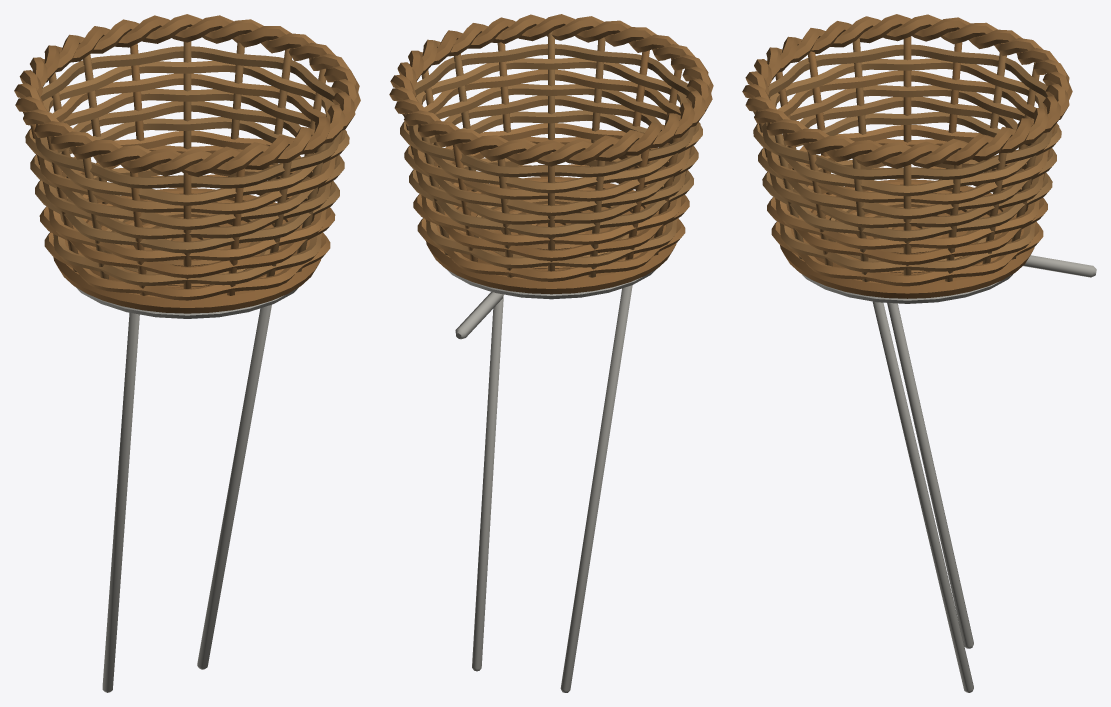
The model's file is bicycle_chibi_basket.glb.
3 views of the same model, side by side, from view 1: azimuth 30°, elevation 25°; view 2: azimuth 150°, elevation 25°; view 3: azimuth 270°, elevation 25° (orthographic). The views are drawn at different scales.
Parts seen in each view (by area): view 1: Sammel Stoff, Sammel Metall; view 2: Sammel Stoff, Sammel Metall; view 3: Sammel Stoff, Sammel Metall.
Part boxes in pixels (box(x1,y1,x2,y2)): Sammel Stoff: box(14, 14, 360, 313); Sammel Metall: box(76, 287, 298, 692); Sammel Stoff: box(389, 14, 713, 294); Sammel Metall: box(446, 269, 656, 692); Sammel Stoff: box(742, 14, 1072, 298); Sammel Metall: box(802, 255, 1096, 692).
Bounding box in the file's own units: 0.349 × 0.6865 × 0.3743.
